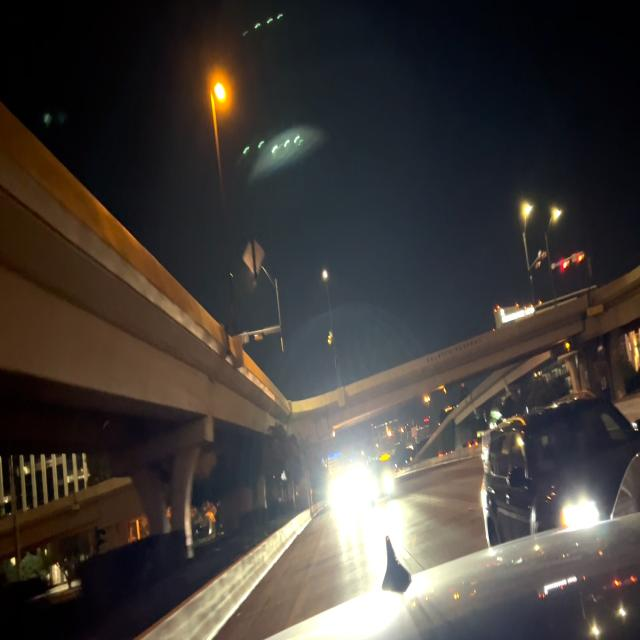back-of-sign: (244, 240, 266, 279)
